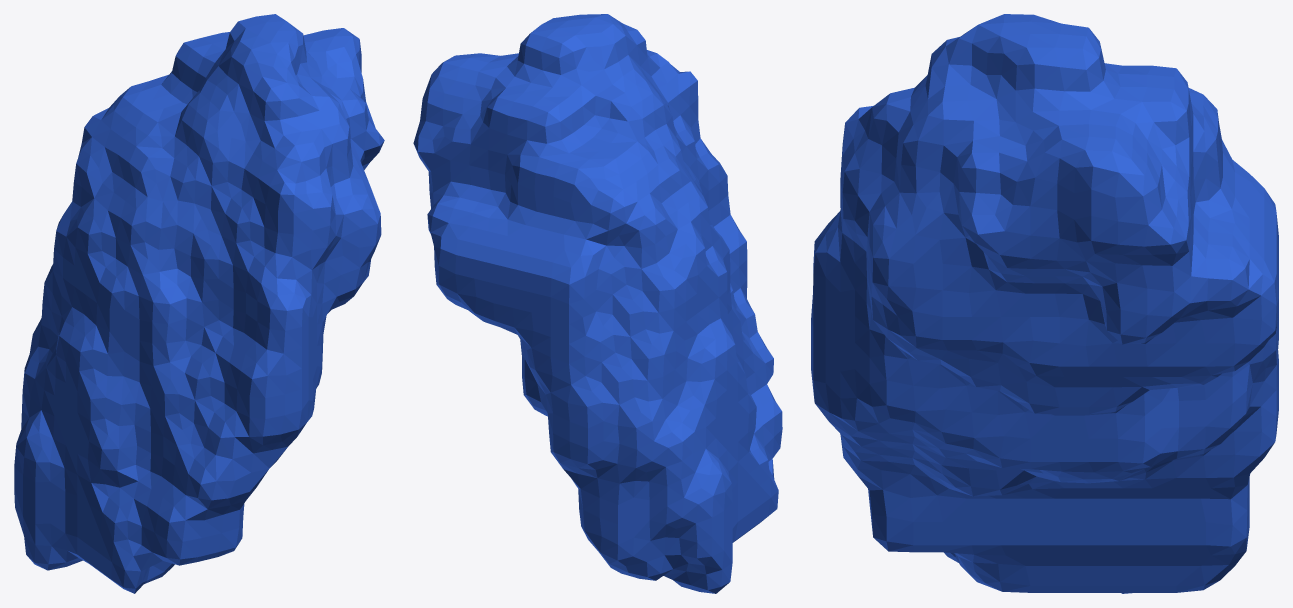
The model's file is aseg_013_Left-Pallidum.glb.
The picture shows the model from 3 angles, left to right: view 1: azimuth 30°, elevation 25°; view 2: azimuth 150°, elevation 25°; view 3: azimuth 270°, elevation 25°; orthographic projection. The views are drawn at different scales.
Size of the model in its own units: 16 by 24.92 by 16.
